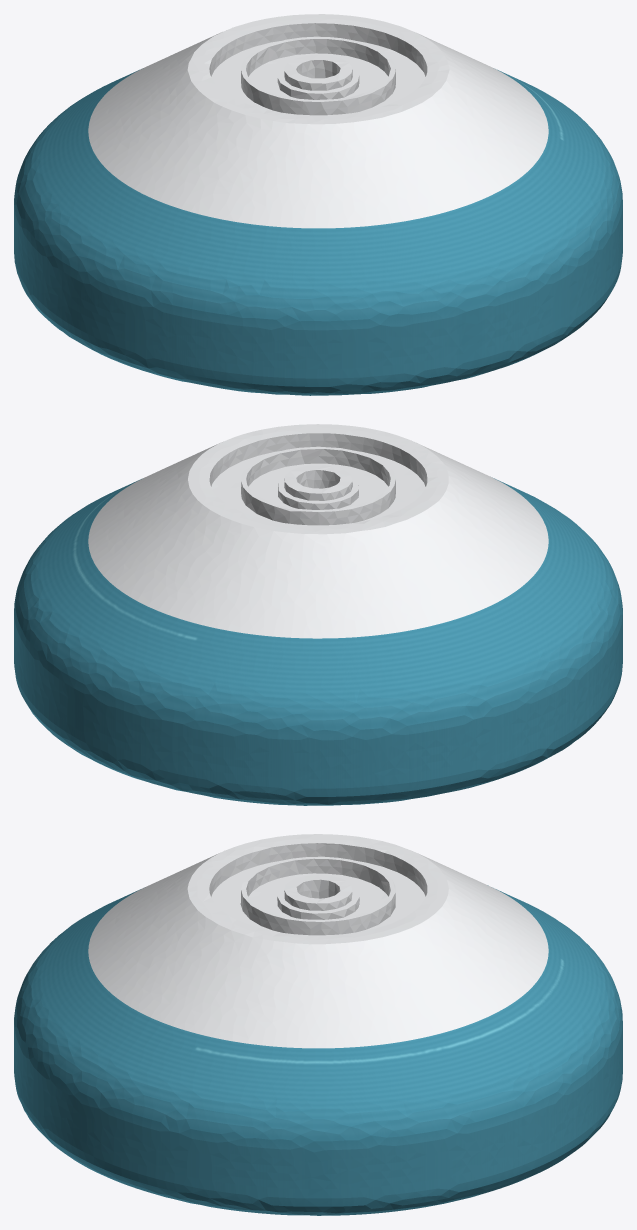
The model's file is yoyo-bottom_shell.glb.
The picture shows the model from 3 angles, top to bottom: view 1: azimuth 30°, elevation 25°; view 2: azimuth 150°, elevation 25°; view 3: azimuth 270°, elevation 25°; orthographic projection.
Parts seen in each view (by area): view 1: bottom_dome, bottom_rim; view 2: bottom_dome, bottom_rim; view 3: bottom_dome, bottom_rim.
Boxes of the visible parts, <box> form: bottom_dome: <box>14,69,622,395</box>; bottom_rim: <box>88,14,548,228</box>; bottom_dome: <box>14,477,622,805</box>; bottom_rim: <box>88,424,548,638</box>; bottom_dome: <box>14,885,622,1215</box>; bottom_rim: <box>88,834,548,1048</box>.
Size of the model in its own units: 0.0532 by 0.02 by 0.0532.
2 materials, 1 textured.
